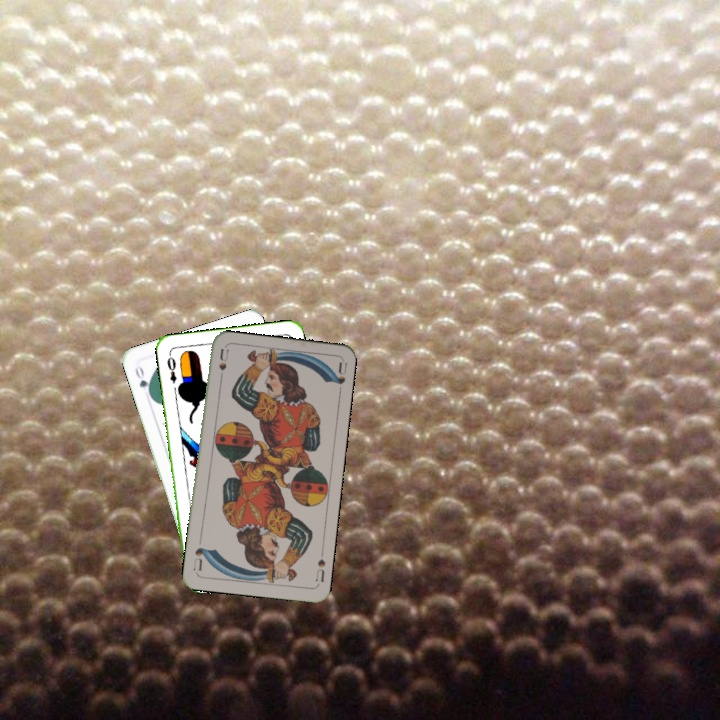EO: (163, 350, 179, 386)
GO: (131, 362, 154, 399)
SU: (215, 345, 231, 386), (312, 555, 328, 585)
